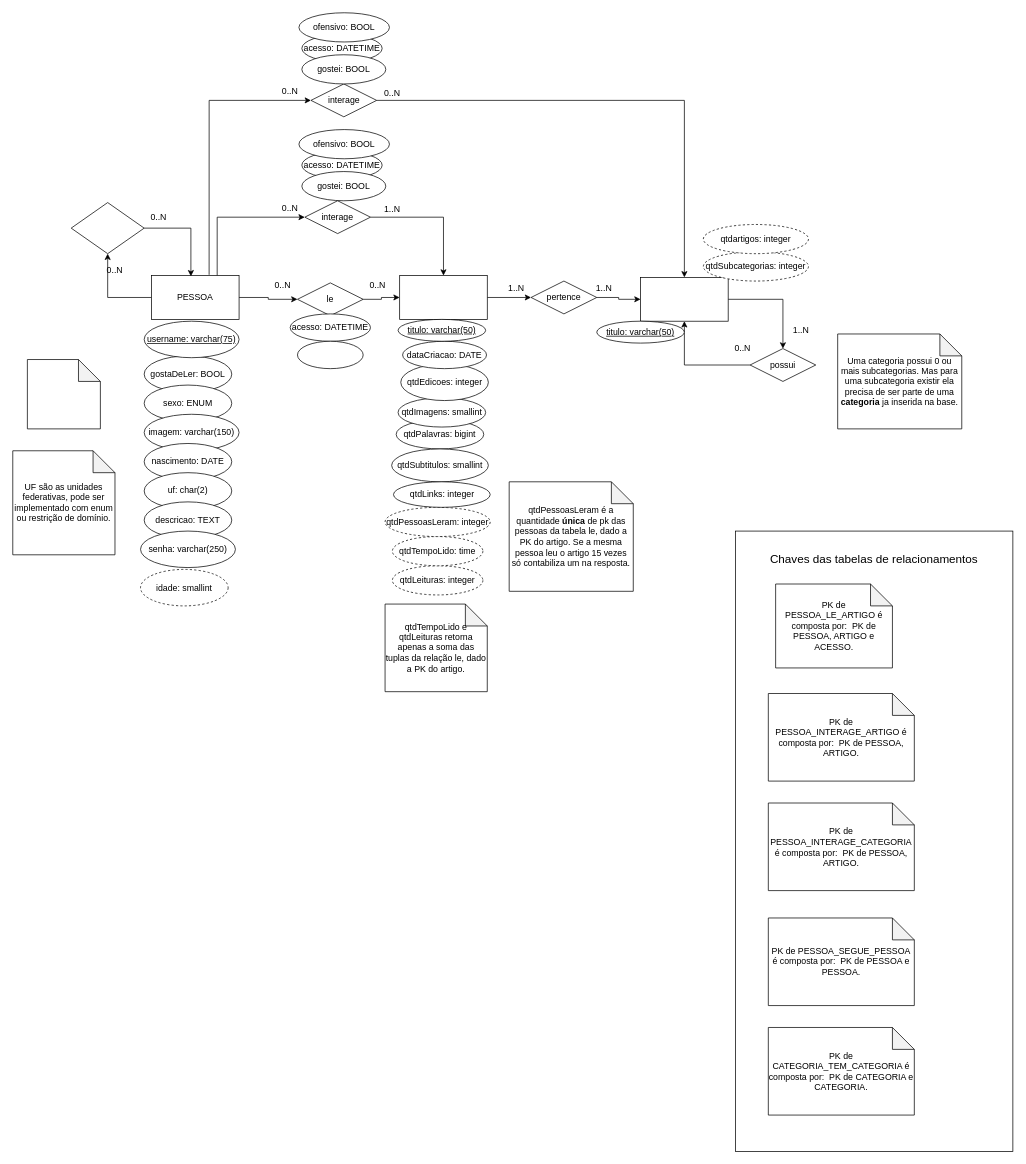
Image size: 1026x1164. Some labels were removed from this diagram. Each missing label, with the centre of its shape:
ARTIGO: (443,297)
CATEGORIA: (684,299)
segue: (107,228)
sexo: assume 'M' ou 'F': (63,394)
tempoLido: time: (330,355)
